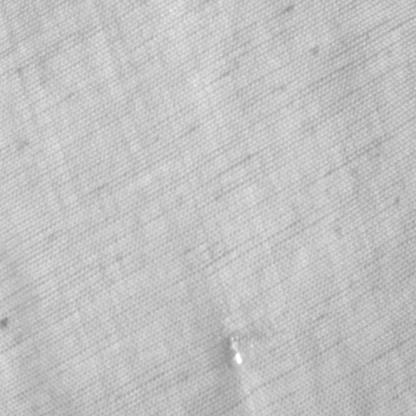hole: (226, 331, 246, 369)
